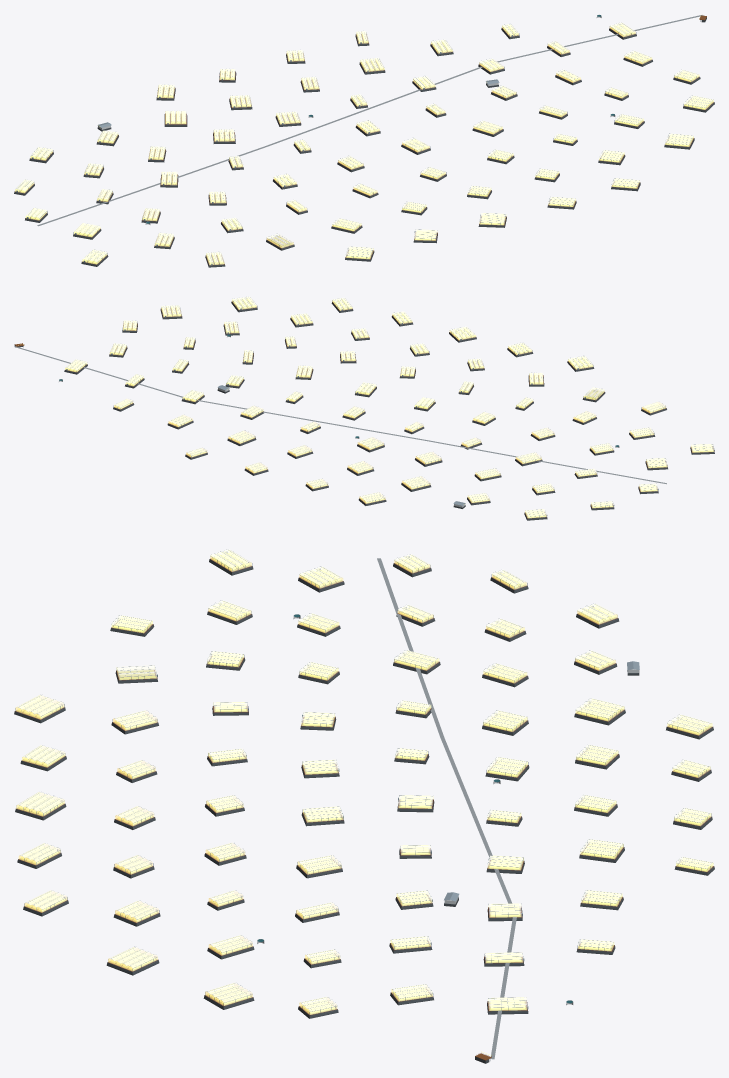
Rendered from agri_w1_thai_phien_south_view_T_E02_N00.glb.
3 views of the same model, one above another, from view 1: azimuth 30°, elevation 25°; view 2: azimuth 150°, elevation 25°; view 3: azimuth 270°, elevation 25° (orthographic). The views are drawn at different scales.
Parts seen in each view (by area): view 1: Greenhouse_PE_Film_Shell_Blend, Night_GrowLight_2700K_Core, Taluy_SplitStone_Foundation, Galvanized_Steel_Arches_And_Gutters, Terrace_Basalt_Soil_And_Lanes, Interior_Chrysanthemum_Flower_Beds, Farm_Concrete_Lane; view 2: Greenhouse_PE_Film_Shell_Blend, Night_GrowLight_2700K_Core, Taluy_SplitStone_Foundation, Galvanized_Steel_Arches_And_Gutters, Terrace_Basalt_Soil_And_Lanes, Interior_Chrysanthemum_Flower_Beds, Farm_Concrete_Lane; view 3: Greenhouse_PE_Film_Shell_Blend, Night_GrowLight_2700K_Core, Taluy_SplitStone_Foundation, Galvanized_Steel_Arches_And_Gutters, Interior_Chrysanthemum_Flower_Beds, Terrace_Basalt_Soil_And_Lanes, Farm_Concrete_Lane.
Boxes of the visible parts, x1,y1,x2,y2 form: Greenhouse_PE_Film_Shell_Blend: (15,22,713,265); Night_GrowLight_2700K_Core: (16,16,711,263); Taluy_SplitStone_Foundation: (14,17,714,267); Galvanized_Steel_Arches_And_Gutters: (16,20,713,265); Terrace_Basalt_Soil_And_Lanes: (15,28,713,265); Interior_Chrysanthemum_Flower_Beds: (18,28,712,264); Farm_Concrete_Lane: (37,15,702,226); Greenhouse_PE_Film_Shell_Blend: (65,296,714,518); Night_GrowLight_2700K_Core: (18,297,712,517); Taluy_SplitStone_Foundation: (14,301,714,520); Galvanized_Steel_Arches_And_Gutters: (19,297,714,517); Terrace_Basalt_Soil_And_Lanes: (65,301,714,518); Interior_Chrysanthemum_Flower_Beds: (69,300,713,517); Farm_Concrete_Lane: (14,346,666,484); Greenhouse_PE_Film_Shell_Blend: (15,549,713,1014); Night_GrowLight_2700K_Core: (18,550,710,1055); Taluy_SplitStone_Foundation: (14,559,714,1063); Galvanized_Steel_Arches_And_Gutters: (15,549,712,1060); Interior_Chrysanthemum_Flower_Beds: (17,558,711,1014); Terrace_Basalt_Soil_And_Lanes: (15,558,713,1015); Farm_Concrete_Lane: (377,558,516,1059).
Size of the model in its own units: 1365 by 30.65 by 771.
10 materials, 2 textured.
